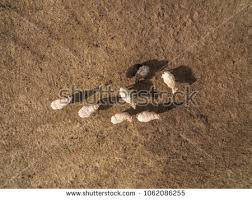sheep: (118, 87, 137, 110), (77, 104, 103, 120), (161, 71, 179, 94), (50, 96, 72, 111), (110, 113, 132, 125), (136, 111, 160, 122)
